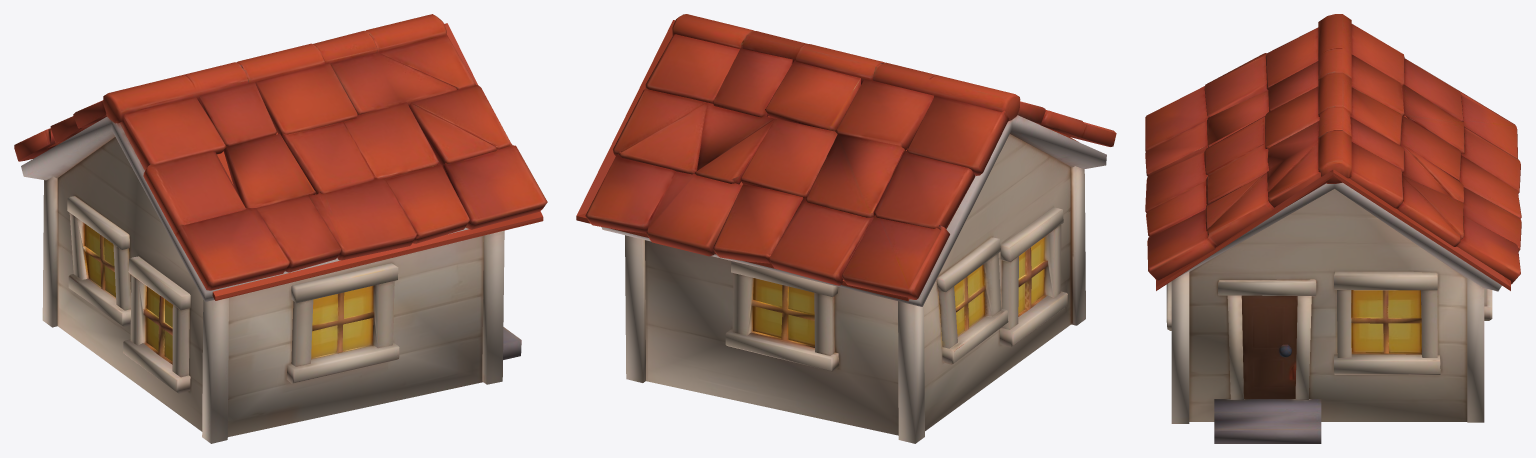
Rendered from house-coral-repaired-source.glb.
3 renders of one model, left to right at view 1: azimuth 30°, elevation 25°; view 2: azimuth 150°, elevation 25°; view 3: azimuth 270°, elevation 25°, orthographic. The views are drawn at different scales.
Parts seen in each view (by area): view 1: tripo_node_76e46352-e400-4673-b23e-ea8058c9afac; view 2: tripo_node_76e46352-e400-4673-b23e-ea8058c9afac; view 3: tripo_node_76e46352-e400-4673-b23e-ea8058c9afac.
Part boxes in pixels (x1,y1,x2,y2): tripo_node_76e46352-e400-4673-b23e-ea8058c9afac: (14, 14, 547, 443); tripo_node_76e46352-e400-4673-b23e-ea8058c9afac: (576, 14, 1116, 443); tripo_node_76e46352-e400-4673-b23e-ea8058c9afac: (1145, 14, 1521, 443).
Bounding box in the file's own units: 0.9863 × 0.8027 × 0.998.
Materials: 1 (1 with a texture image).
